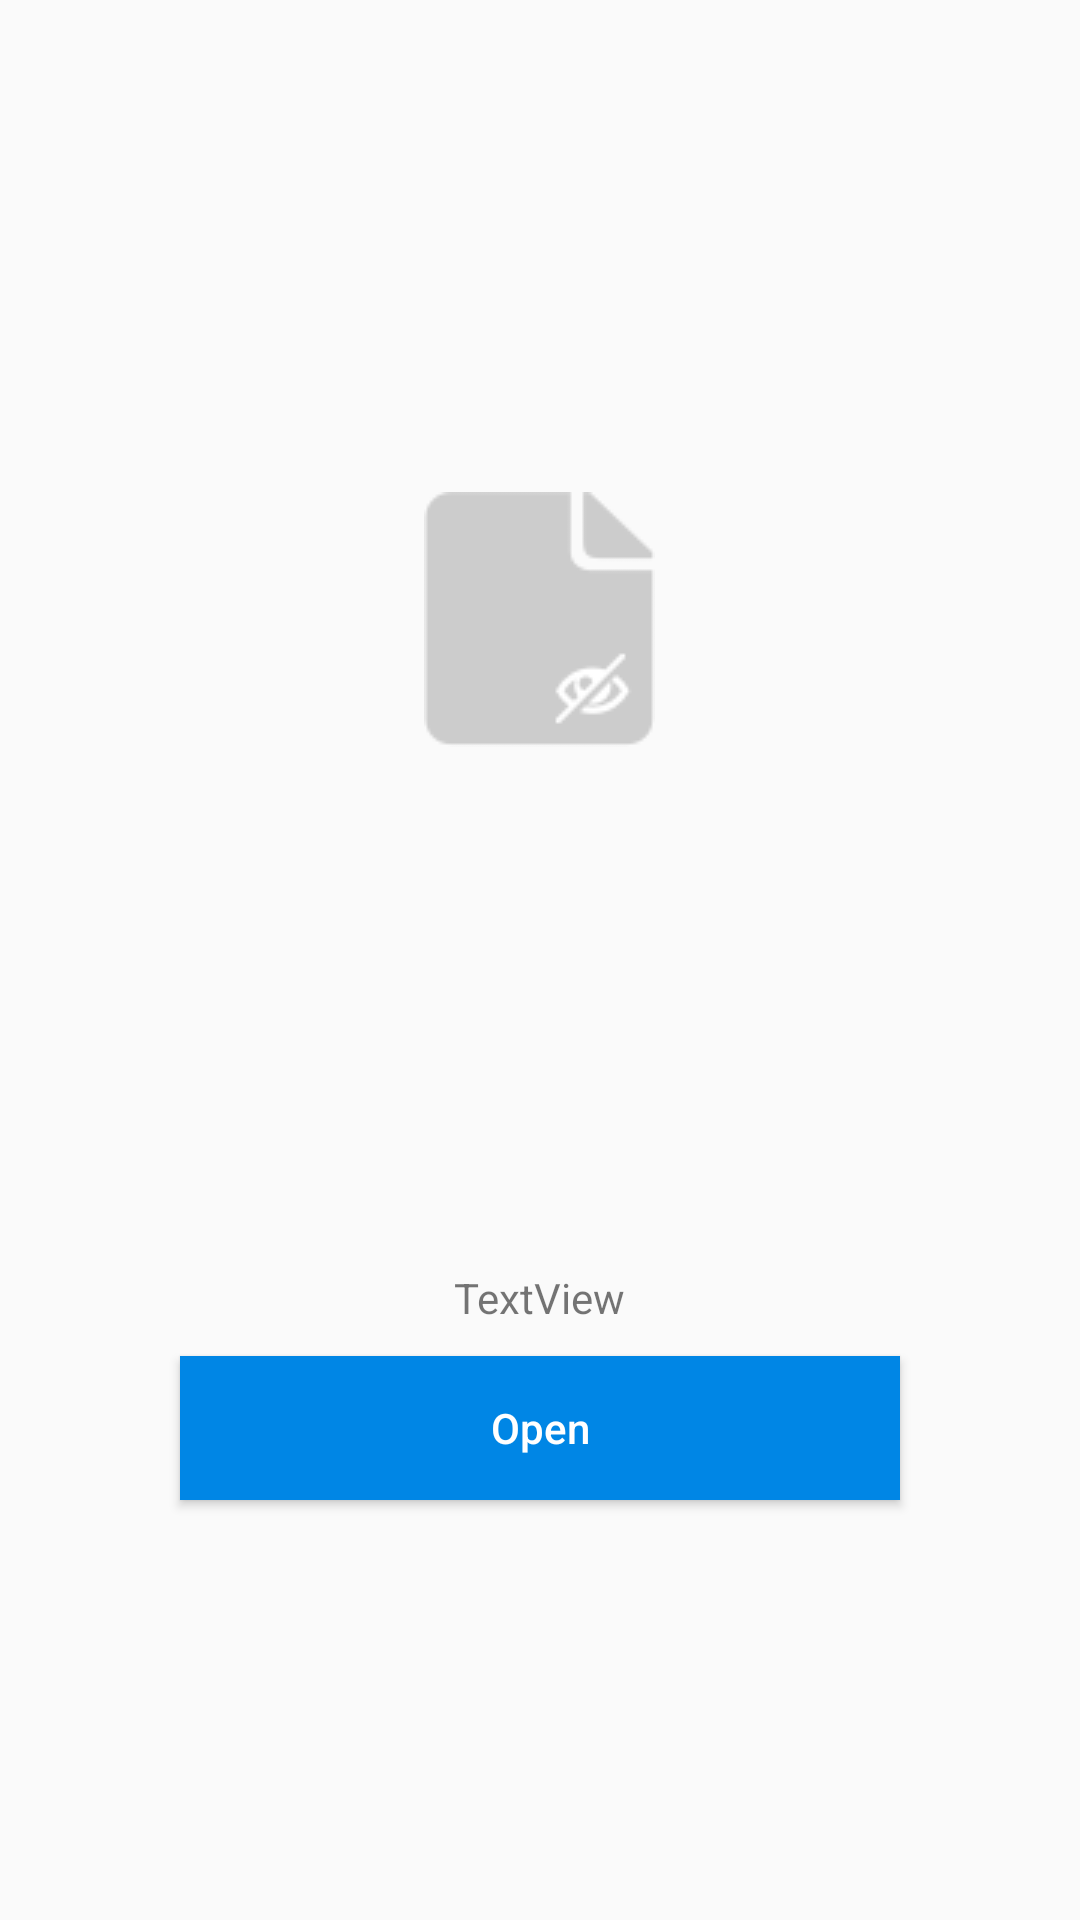

Named icons in this screenshot (1080 x 1920) and their centers, (x=x, y=y):
unvisible: (x=539, y=618)
